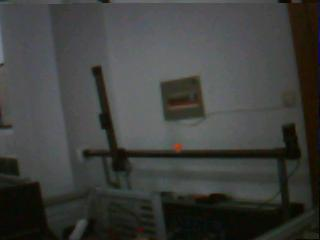oball: (174, 144, 181, 151)
